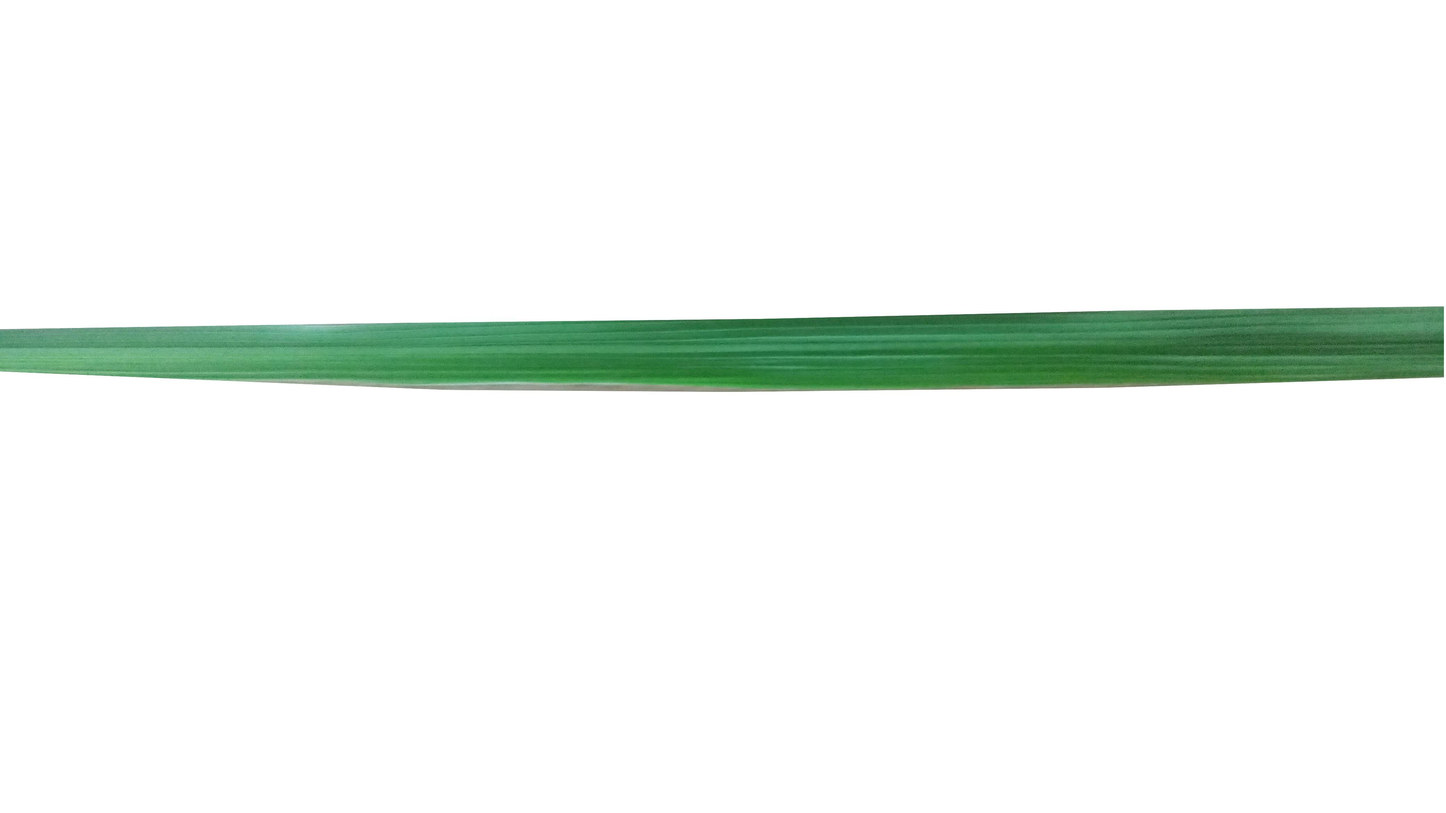Healthy: (7, 307, 1446, 383)
